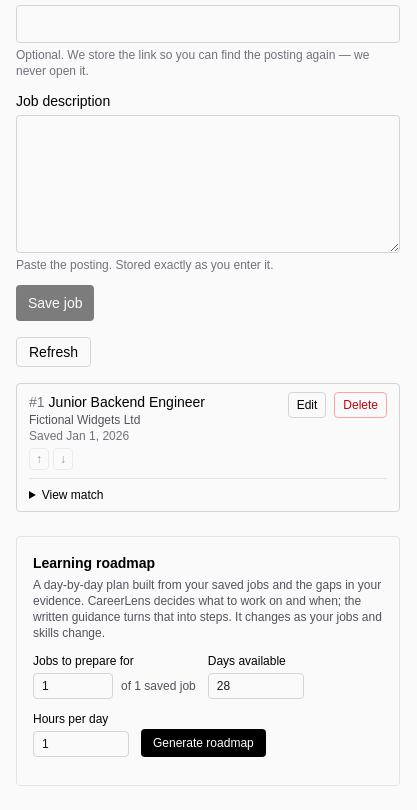
dashboard saved-job coordination › lowers the roadmap's ceiling when a job is deleted
(page scrolled)
Expected: the text "Junior Backend Engineer" is shown, x1=49 y1=394 x2=205 y2=410
Expected: the text "of 1 saved job" is shown, x1=121 y1=678 x2=196 y2=694
Click the button "Delete": (361, 405) x1=334 y1=392 x2=387 y2=418
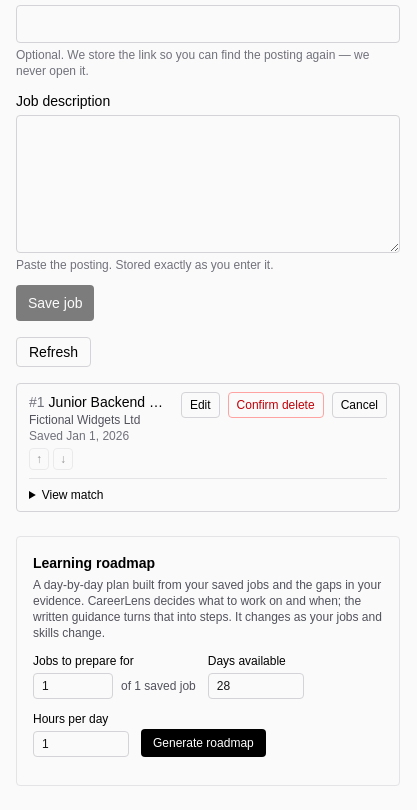
Click the button "Confirm delete": (276, 405) x1=228 y1=392 x2=324 y2=418
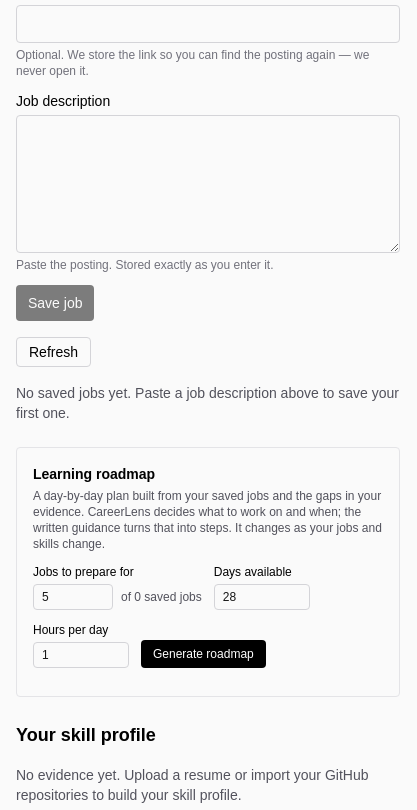
Result: the text "of 0 saved jobs" is shown at x1=121 y1=589 x2=202 y2=605
